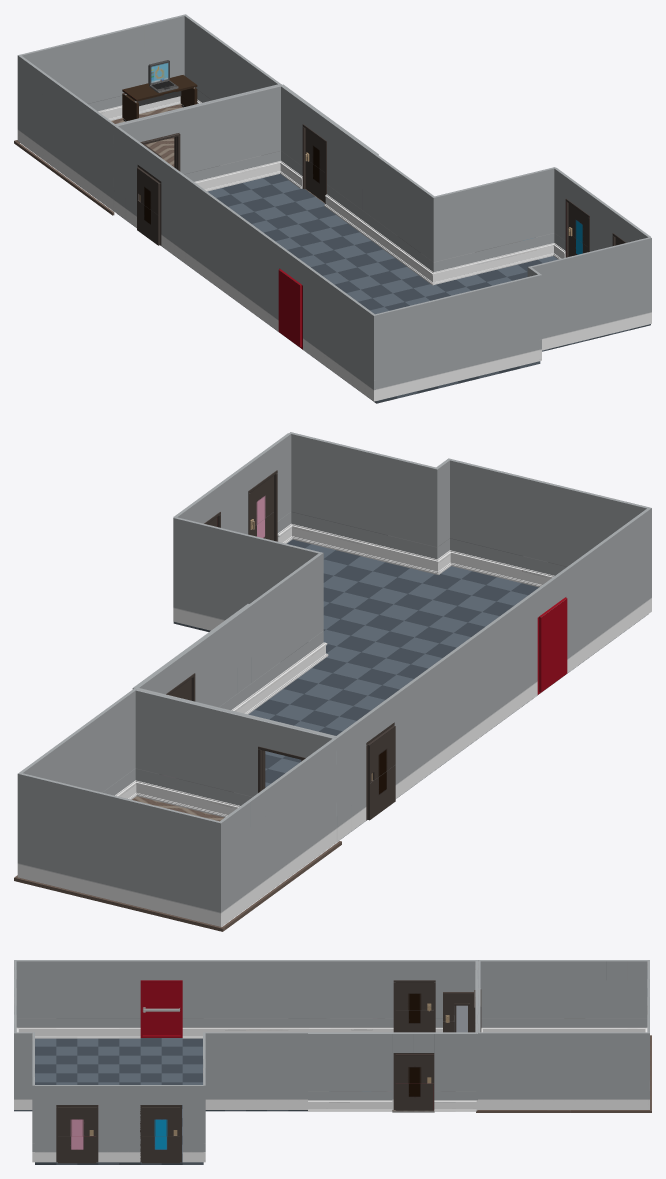
The model's file is oficina principalcuartoNivelNivel.fbx.
3 views of the same model, one above another, from view 1: azimuth 30°, elevation 25°; view 2: azimuth 150°, elevation 25°; view 3: azimuth 270°, elevation 25° (orthographic). The views are drawn at different scales.
Parts seen in each view (by area): view 1: Caja_603, Caja_203, Caja_425, Caja_835, Caja_1005, Caja_204; view 2: Caja_425, Caja_603, Caja_1004, Caja_977, Caja_974, Caja_174, Caja_191, Caja_993, Caja_195, Caja_189, Caja_961, Caja_177 (+31 smaller); view 3: Caja_1004, Caja_425, Caja_1005, Caja_835, Caja_603, _2, Caja_186, Caja_199, Caja_385, Caja_669, Caja_670, Caja_674 (+196 smaller).
Part boxes in pixels (x1=…): Caja_603: x1=137, y1=165, x2=161, y2=245; Caja_203: x1=122, y1=75, x2=197, y2=121; Caja_425: x1=278, y1=268, x2=302, y2=349; Caja_835: x1=302, y1=124, x2=326, y2=203; Caja_1005: x1=565, y1=198, x2=589, y2=257; Caja_204: x1=148, y1=60, x2=178, y2=92; Caja_425: x1=537, y1=597, x2=567, y2=694; Caja_603: x1=366, y1=722, x2=395, y2=820; Caja_1004: x1=248, y1=470, x2=277, y2=541; Caja_977: x1=412, y1=462, x2=439, y2=494; Caja_974: x1=411, y1=541, x2=439, y2=573; Caja_174: x1=159, y1=695, x2=185, y2=727; Caja_191: x1=69, y1=785, x2=95, y2=818; Caja_993: x1=247, y1=535, x2=273, y2=567; Caja_195: x1=168, y1=809, x2=194, y2=842; Caja_189: x1=44, y1=779, x2=70, y2=811; Caja_961: x1=313, y1=438, x2=339, y2=470; Caja_177: x1=233, y1=713, x2=259, y2=746; Caja_1004: x1=56, y1=1105, x2=98, y2=1163; Caja_425: x1=140, y1=980, x2=182, y2=1037; Caja_1005: x1=140, y1=1105, x2=181, y2=1163; Caja_835: x1=393, y1=1053, x2=434, y2=1110; Caja_603: x1=393, y1=980, x2=435, y2=1032; _2: x1=443, y1=992, x2=473, y2=1032; Caja_186: x1=585, y1=1032, x2=606, y2=1052; Caja_199: x1=585, y1=960, x2=606, y2=980; Caja_385: x1=351, y1=960, x2=372, y2=980; Caja_669: x1=371, y1=1091, x2=392, y2=1111; Caja_670: x1=350, y1=1091, x2=371, y2=1111; Caja_674: x1=434, y1=1091, x2=455, y2=1111.
Size of the model in its own units: 459 by 132 by 968.
Materials: 1 (1 with a texture image).
